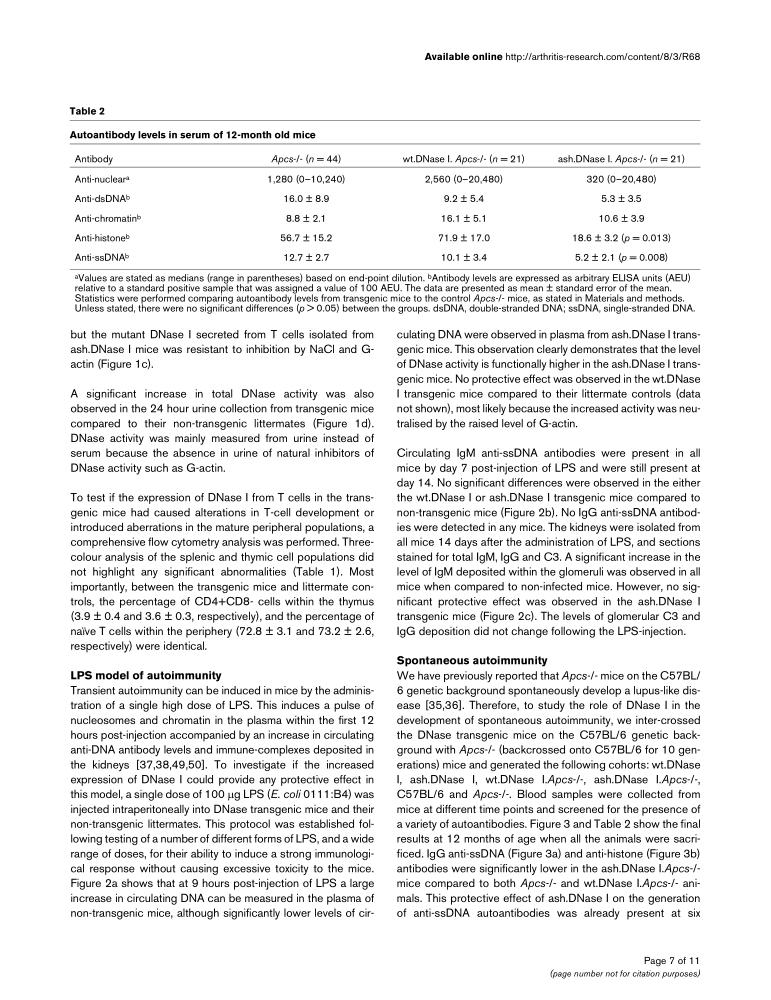table: (74, 152, 684, 263)
